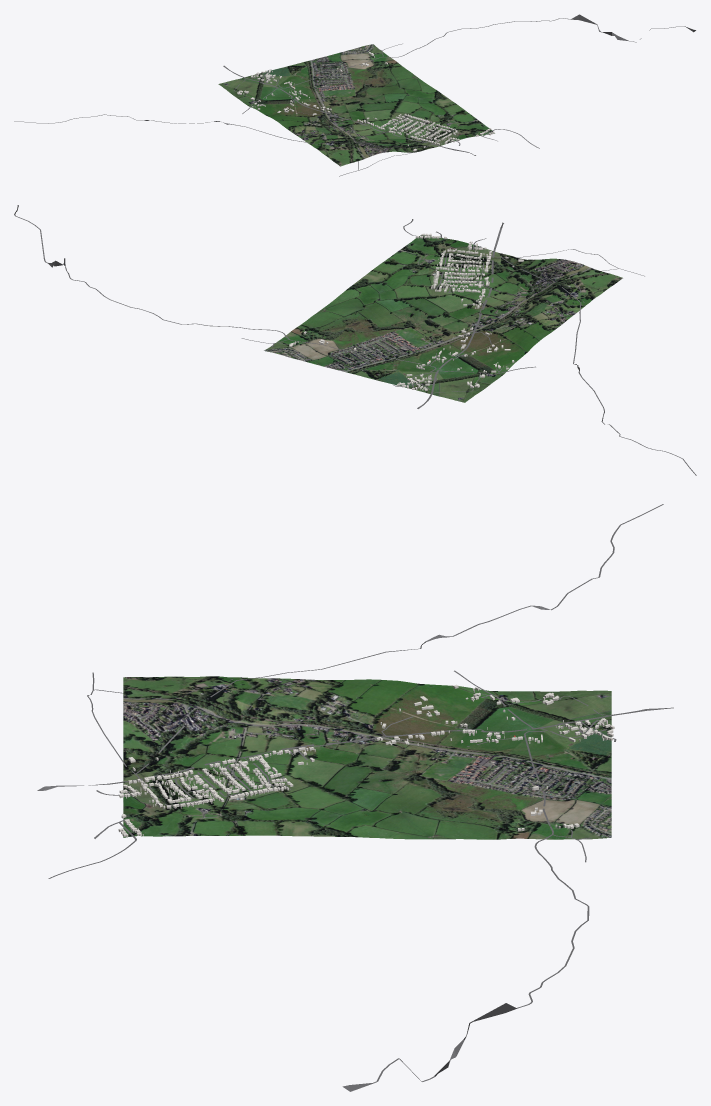
Rendered from howey-terrain.glb.
3 views of the same model, one above another, from view 1: azimuth 30°, elevation 25°; view 2: azimuth 150°, elevation 25°; view 3: azimuth 270°, elevation 25° (orthographic). The views are drawn at different scales.
Visible parts, largest first — view 1: Terrain_3D, Roads, Buildings_OSM; view 2: Terrain_3D, Buildings_OSM, Roads; view 3: Terrain_3D, Buildings_OSM, Roads.
Boxes of the visible parts, box(x1,y1,x2,y2) form: Terrain_3D: box(218, 44, 494, 166); Roads: box(14, 14, 695, 176); Buildings_OSM: box(237, 52, 494, 151); Terrain_3D: box(264, 235, 622, 402); Buildings_OSM: box(289, 233, 523, 390); Roads: box(14, 205, 696, 475); Terrain_3D: box(123, 676, 611, 839); Buildings_OSM: box(118, 684, 614, 836); Roads: box(37, 504, 673, 1091).
Size of the model in its own units: 4278 by 179 by 1957.
4 materials, 1 textured.
